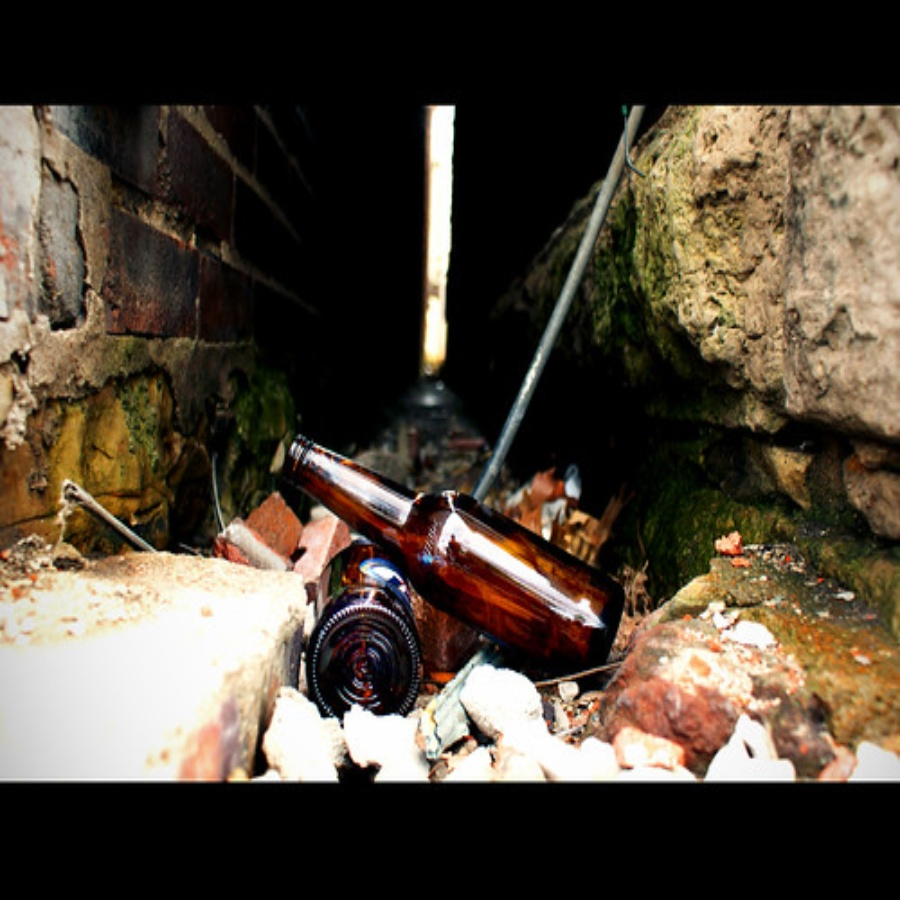beer: (280, 451, 622, 657)
